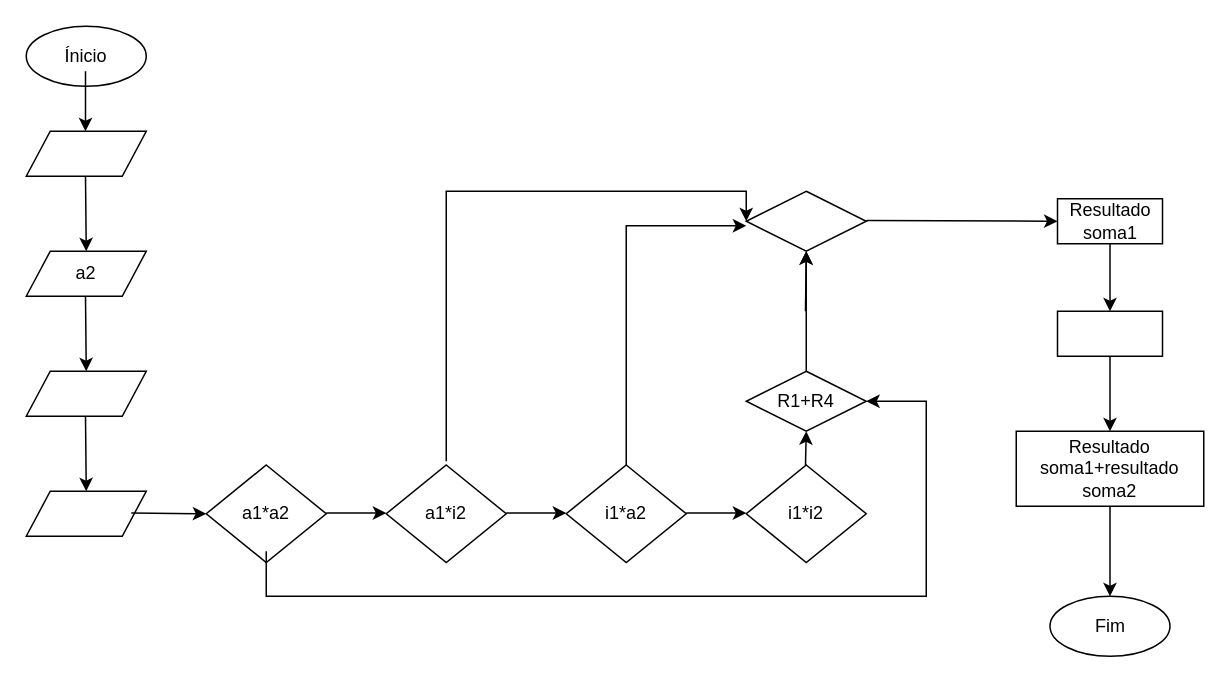
Some shapes in this 1230 by 683 pixel diagram are drawn without their labels. Each missing label, with the centre of its shape:
"a1" belongs at pixel 85 153.
"i1" belongs at pixel 85 393.
"i2" belongs at pixel 85 513.
"R2+R3" belongs at pixel 805 220.
"Resultado soma2" belongs at pixel 1109 333.
